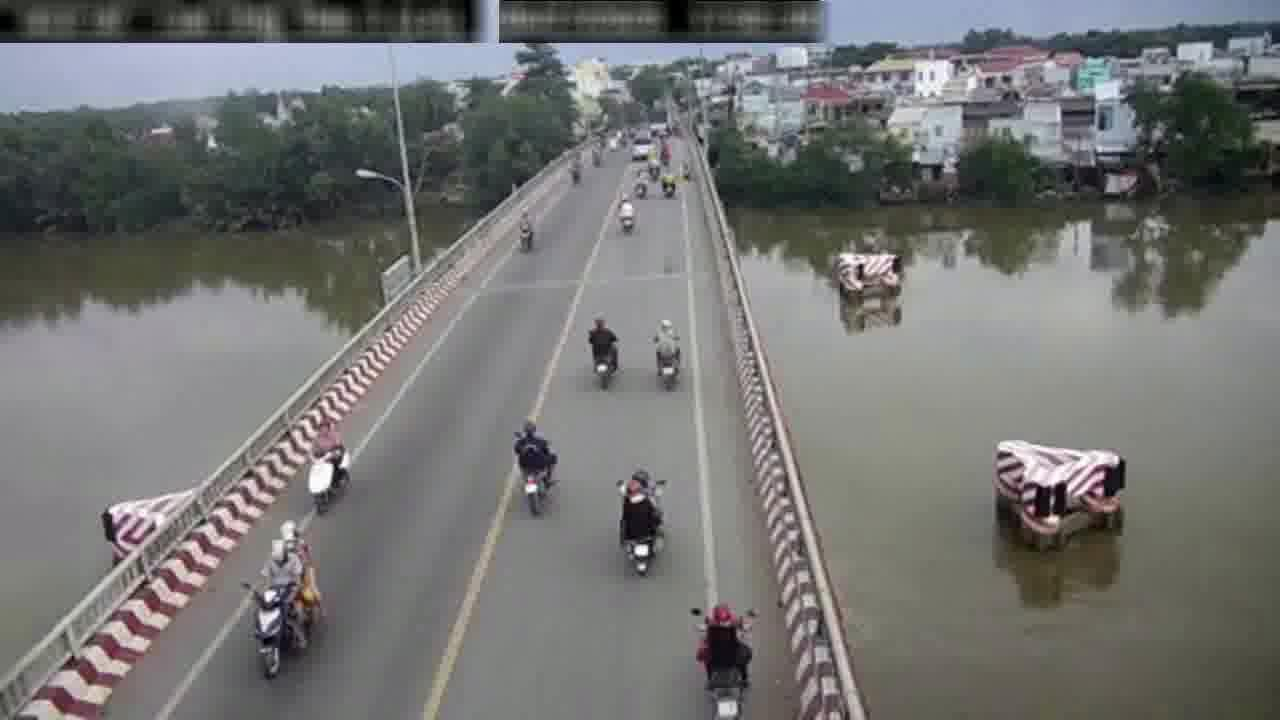container: (629, 134, 653, 161)
motorbike: (253, 519, 326, 683), (696, 589, 756, 720), (613, 464, 672, 583), (508, 409, 559, 519), (310, 415, 351, 519), (585, 318, 620, 390), (652, 312, 683, 389), (517, 205, 535, 253), (617, 190, 636, 232), (660, 166, 677, 200), (568, 155, 583, 185), (635, 173, 648, 198), (646, 155, 659, 179)
